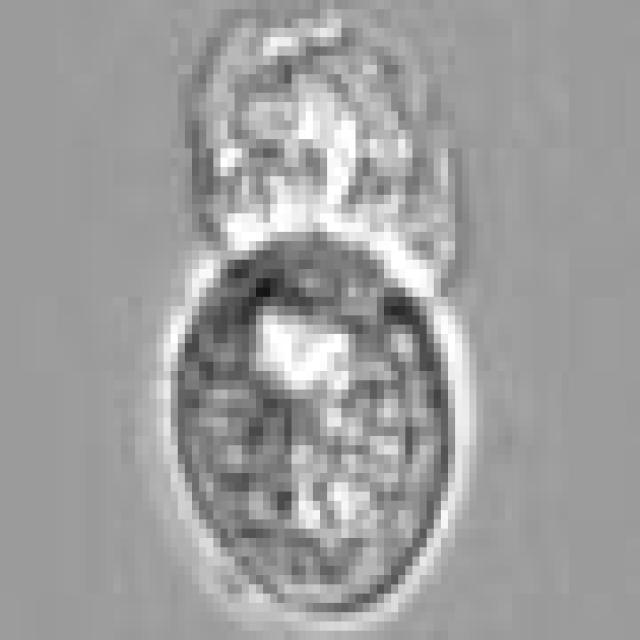Cancer Cell: (178, 223, 462, 612)
WBC: (192, 9, 455, 325)
